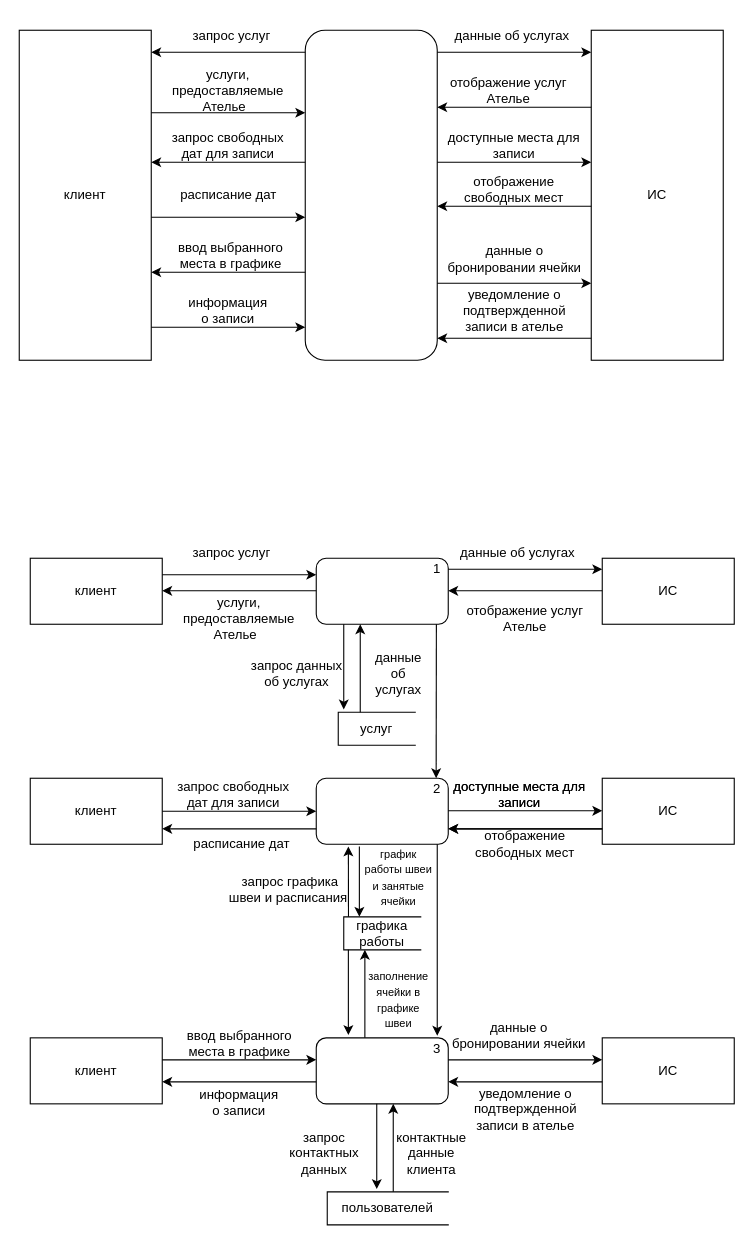
Image size: 754x1244. Some labels were removed from this diagram. The box of each missing label's shape, as (x1, y1, x2, y2) in pixels:
бронирование записи в Ателье: (315, 1037, 448, 1104)
просмотр свободных дат швеи: (315, 777, 448, 844)
просмотр услуг Ателье: (315, 557, 448, 624)
просмотр услуг Ателье и бронирование записи: (304, 29, 437, 360)
